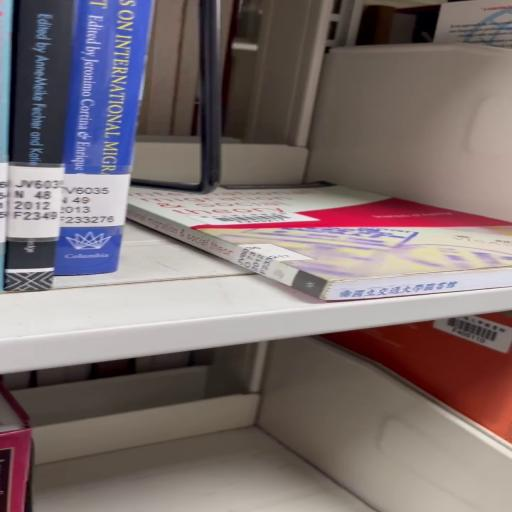flat: (128, 183, 512, 301)
